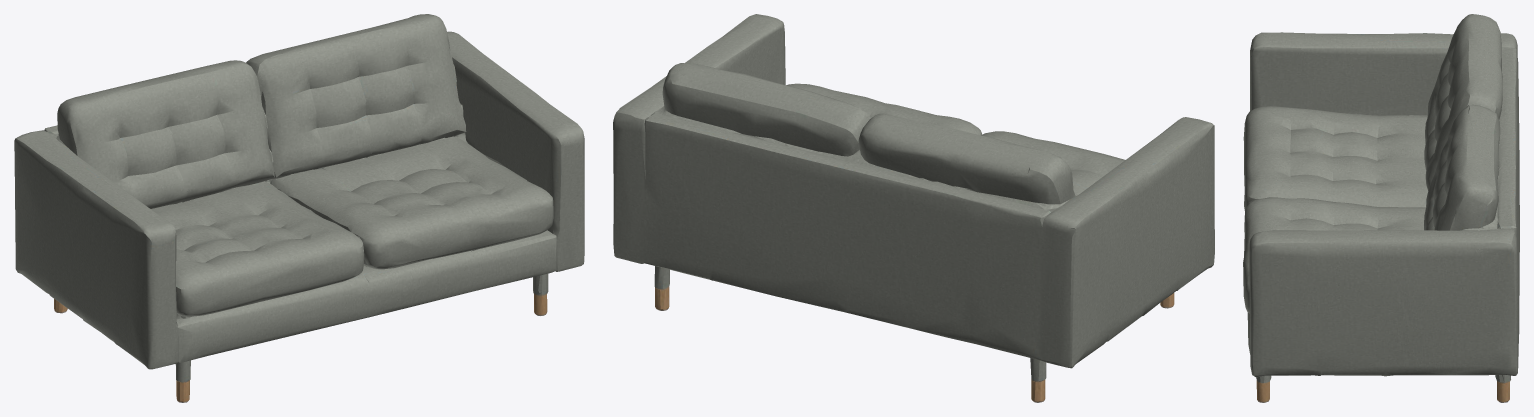
File: 15-LANDSKRONA 2 seater sofa - Gunnared light green with wood legs (39270289).glb
The picture shows the model from 3 angles, left to right: view 1: azimuth 30°, elevation 25°; view 2: azimuth 150°, elevation 25°; view 3: azimuth 270°, elevation 25°; orthographic projection. The views are drawn at different scales.
Visible parts, largest first — view 1: ProcessedMeshNode; view 2: ProcessedMeshNode; view 3: ProcessedMeshNode.
Part boxes in pixels (<box>): ProcessedMeshNode: <box>14,14,584,402</box>; ProcessedMeshNode: <box>613,14,1214,402</box>; ProcessedMeshNode: <box>1243,14,1519,402</box>.
Size of the model in its own units: 1.65 by 0.789 by 0.9089.
1 material, 1 textured.
